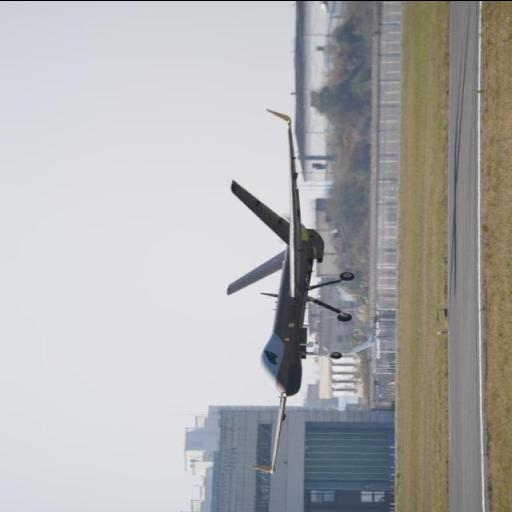uav: (222, 100, 360, 484)
